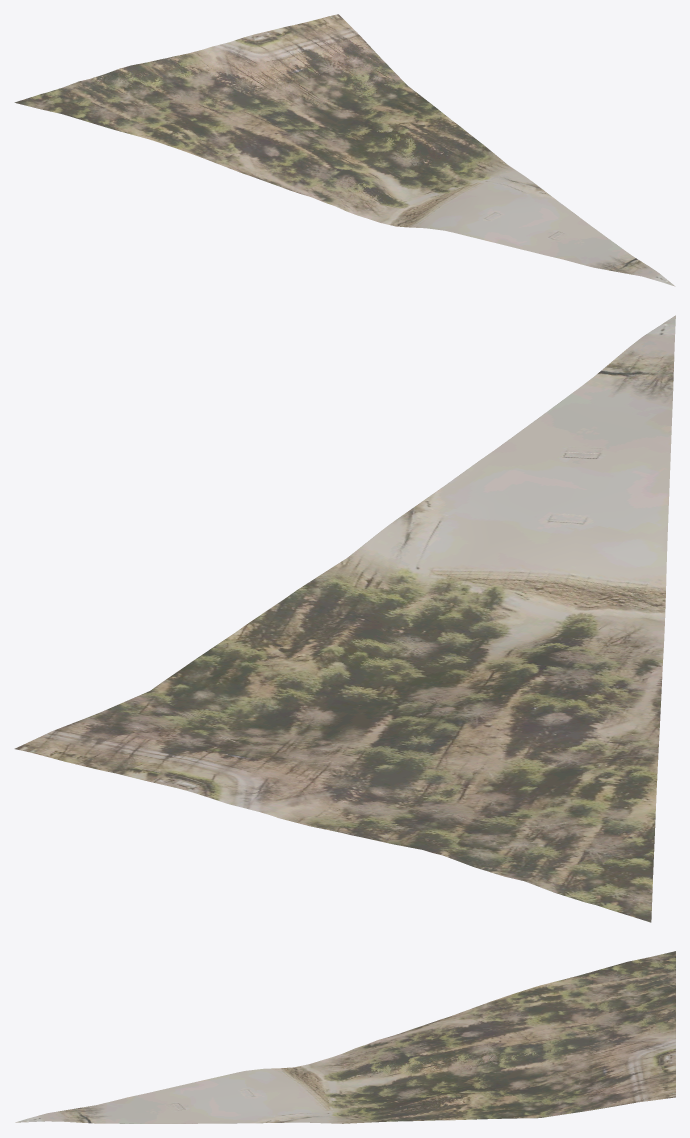
Rendered from CM_Terrain_24491482_6814674.fbx.
3 renders of one model, top to bottom at view 1: azimuth 30°, elevation 25°; view 2: azimuth 150°, elevation 25°; view 3: azimuth 270°, elevation 25°, orthographic. The views are drawn at different scales.
Parts seen in each view (by area): view 1: CM_Terrain_24491482_6814674_LOD0; view 2: CM_Terrain_24491482_6814674_LOD0; view 3: CM_Terrain_24491482_6814674_LOD0.
Part boxes in pixels (x1,y1,x2,y2): CM_Terrain_24491482_6814674_LOD0: (14, 14, 675, 286); CM_Terrain_24491482_6814674_LOD0: (14, 315, 675, 922); CM_Terrain_24491482_6814674_LOD0: (15, 951, 675, 1123).
Size of what is drawn, in the model's own units: 112 by 12.22 by 201.
